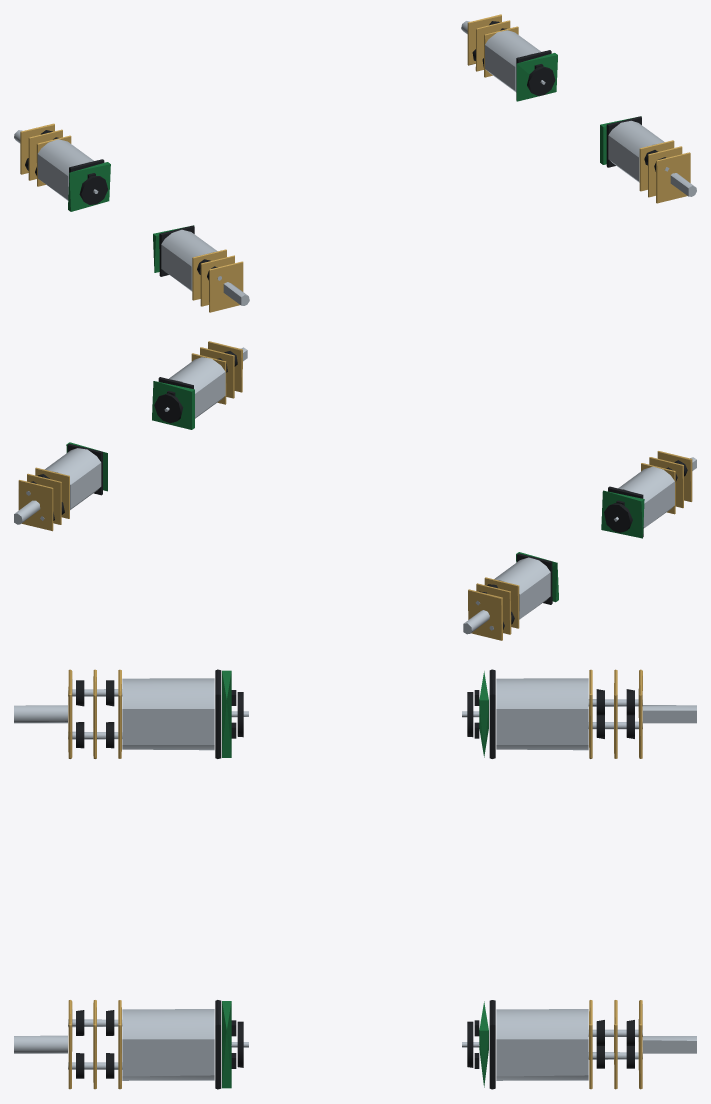
Rendered from motor_torque.glb.
3 renders of one model, top to bottom at view 1: azimuth 30°, elevation 25°; view 2: azimuth 150°, elevation 25°; view 3: azimuth 270°, elevation 25°, orthographic. The views are drawn at different scales.
Parts seen in each view (by area): view 1: mesh_steel_14, mesh_brass_8, mesh_rubber_and_chip_5, mesh_pcb_11; view 2: mesh_steel_14, mesh_brass_8, mesh_pcb_11, mesh_rubber_and_chip_5; view 3: mesh_steel_14, mesh_rubber_and_chip_5, mesh_brass_8, mesh_pcb_11.
Part boxes in pixels (x1,y1,x2,y2): mesh_steel_14: (14,21,696,305); mesh_brass_8: (20,14,690,312); mesh_rubber_and_chip_5: (25,21,665,280); mesh_pcb_11: (68,53,641,272); mesh_steel_14: (14,347,696,634); mesh_brass_8: (18,341,692,640); mesh_pcb_11: (66,381,644,602); mesh_rubber_and_chip_5: (30,351,687,629); mesh_steel_14: (14,678,696,1080); mesh_rubber_and_chip_5: (76,669,634,1089); mesh_brass_8: (68,669,642,1089); mesh_pcb_11: (222,670,488,1088).
Bounding box in the file's own units: 1.42 × 0.1203 × 1.14.
